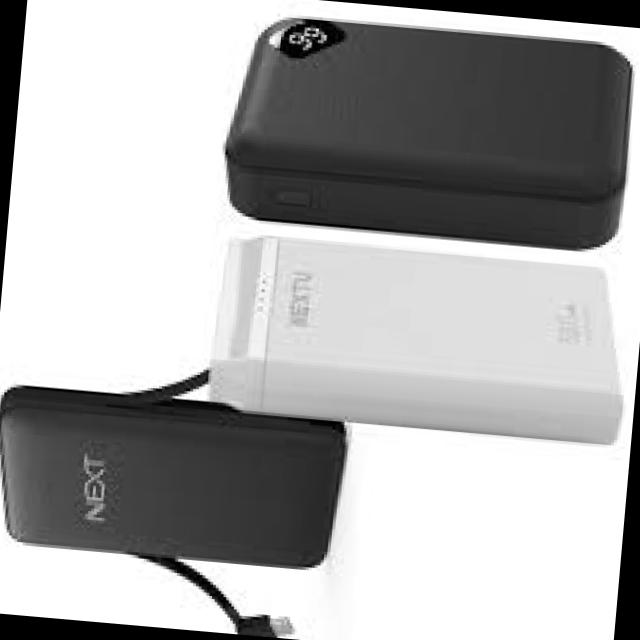portable-charger: (219, 0, 640, 253), (196, 230, 634, 450), (0, 382, 355, 577)
